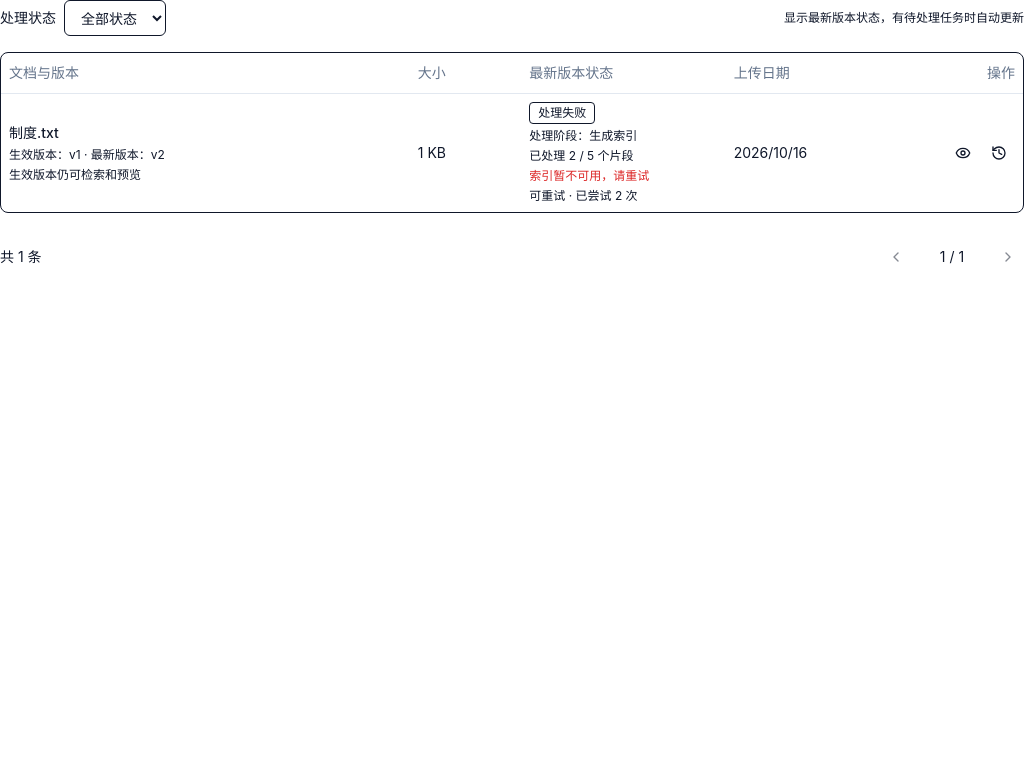
Test: document versions › honors per-document and library permissions
Click the button named "查看版本 制度.txt".
click(999, 152)  # box [983, 136, 1015, 168]
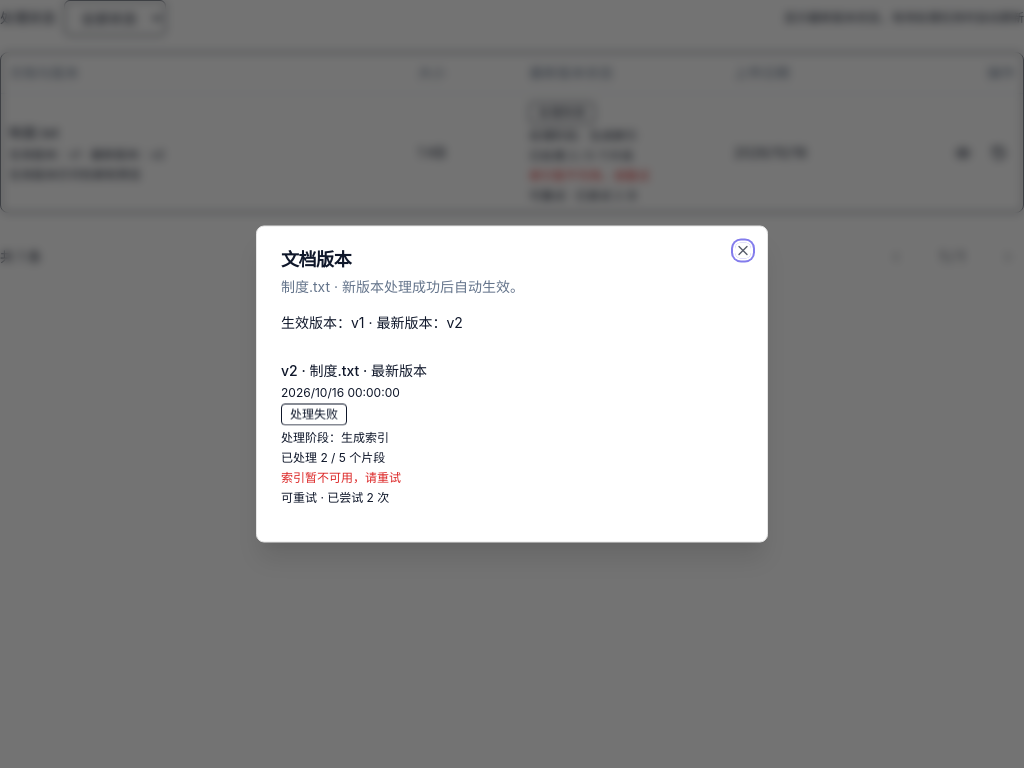
Result: the text "v2 · 制度.txt · 最新版本" is shown at [281, 362, 427, 378]
